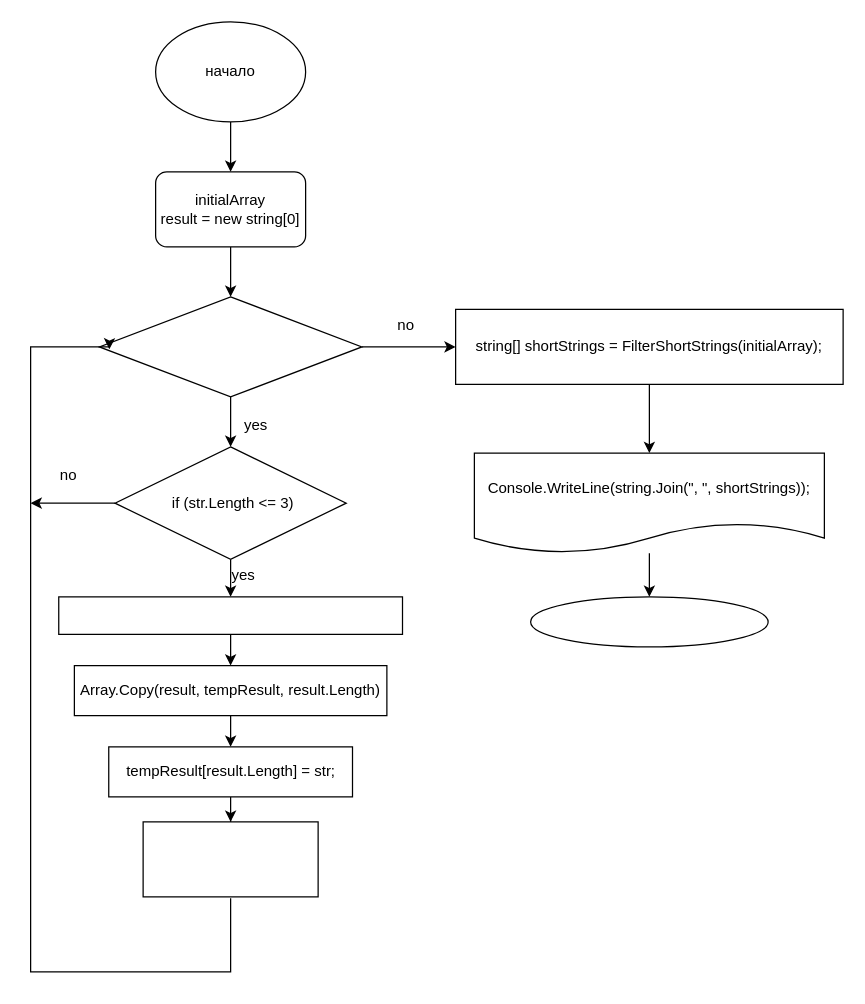
Image size: 865x1004. Some labels were removed from this diagram. The box of each missing label's shape, as (x1, y1, x2, y2) in pixels:
foreach (var str in inputStrings): (98, 296, 362, 397)
result = tempResult;: (142, 821, 318, 897)
string[] tempResult = new string[result.Length + 1]: (58, 596, 402, 634)
конец: (529, 596, 768, 647)
